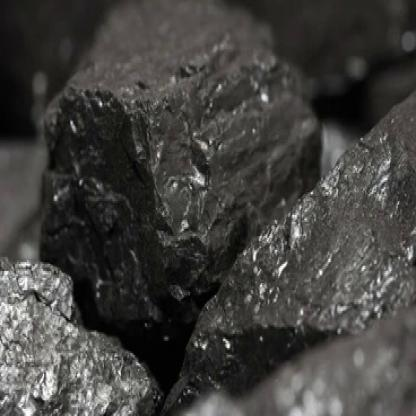Sedimentary_coal: (35, 40, 323, 372)
